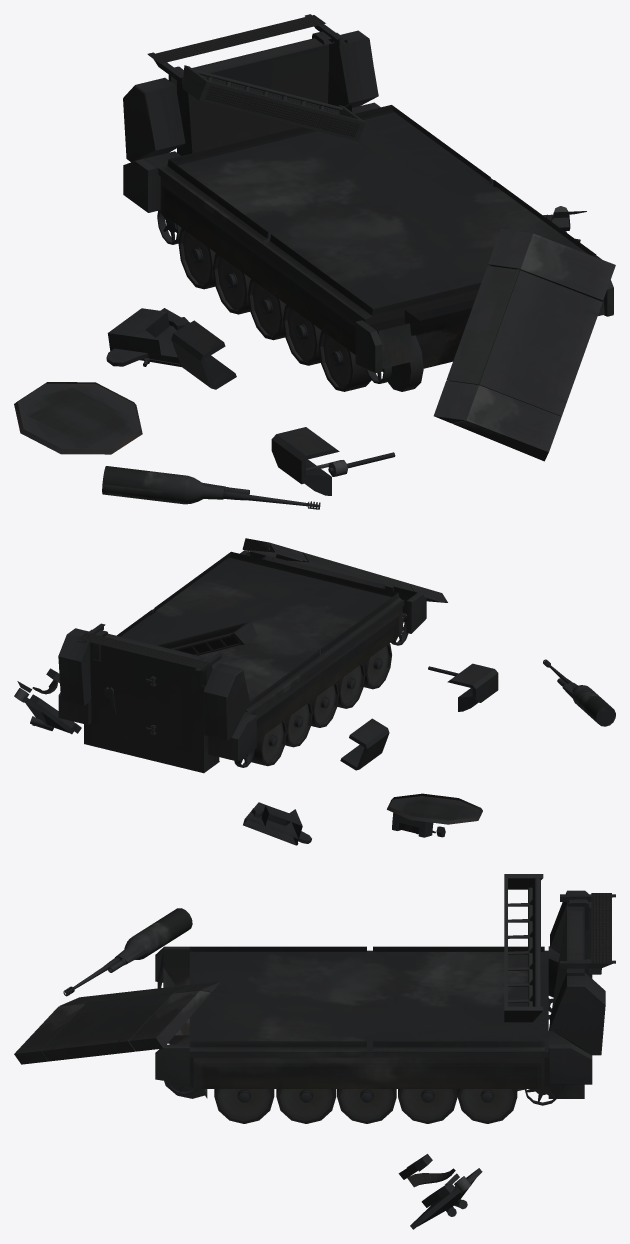
Rendered from M113 Damaged Var 1.fbx.
The picture shows the model from 3 angles, top to bottom: view 1: azimuth 30°, elevation 25°; view 2: azimuth 150°, elevation 25°; view 3: azimuth 270°, elevation 25°; orthographic projection. The views are drawn at different scales.
Parts seen in each view (by area): view 1: polySurface850, polySurface856, polySurface857, polySurface797, polySurface849, polySurface907, polySurface835, polySurface848, polySurface908, polySurface847, polySurface803, polySurface923 (+18 smaller); view 2: polySurface850, polySurface857, polySurface849, polySurface907, polySurface847, polySurface856, polySurface797, polySurface908, polySurface803, polySurface909, polySurface835, polySurface799 (+14 smaller); view 3: polySurface850, polySurface849, polySurface856, polySurface908, polySurface847, polySurface848, polySurface835, polySurface857, polySurface953, polySurface885, polySurface897, polySurface901 (+12 smaller).
Boxes of the visible parts, bbox=[...] form: polySurface850: bbox=[158, 112, 601, 324]; polySurface856: bbox=[433, 229, 615, 461]; polySurface857: bbox=[177, 32, 351, 155]; polySurface797: bbox=[14, 382, 142, 454]; polySurface849: bbox=[160, 176, 357, 354]; polySurface907: bbox=[123, 77, 185, 162]; polySurface835: bbox=[102, 466, 320, 509]; polySurface848: bbox=[164, 105, 492, 241]; polySurface908: bbox=[328, 30, 378, 107]; polySurface847: bbox=[266, 180, 596, 318]; polySurface803: bbox=[171, 320, 236, 389]; polySurface923: bbox=[205, 85, 359, 137]; polySurface850: bbox=[121, 557, 404, 714]; polySurface857: bbox=[84, 629, 219, 773]; polySurface849: bbox=[254, 607, 402, 740]; polySurface907: bbox=[203, 663, 249, 740]; polySurface847: bbox=[152, 551, 401, 655]; polySurface856: bbox=[242, 538, 447, 602]; polySurface797: bbox=[387, 793, 482, 824]; polySurface908: bbox=[58, 628, 91, 705]; polySurface803: bbox=[340, 718, 389, 770]; polySurface909: bbox=[208, 713, 256, 761]; polySurface835: bbox=[543, 659, 615, 726]; polySurface799: bbox=[447, 663, 498, 702]; polySurface850: bbox=[189, 950, 548, 1057]; polySurface849: bbox=[193, 1057, 544, 1088]; polySurface856: bbox=[14, 981, 220, 1064]; polySurface908: bbox=[550, 972, 605, 1055]; polySurface847: bbox=[189, 946, 366, 1050]; polySurface848: bbox=[373, 946, 544, 1050]; polySurface835: bbox=[63, 908, 192, 996]; polySurface857: bbox=[548, 905, 584, 1098]; polySurface953: bbox=[548, 1031, 592, 1084]; polySurface885: bbox=[457, 1089, 517, 1123]; polySurface897: bbox=[276, 1089, 336, 1123]; polySurface901: bbox=[214, 1089, 274, 1123].
Bounding box in the file's own units: 721 × 293 × 676.
